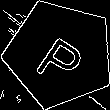P_NE: (29, 22, 91, 86)
